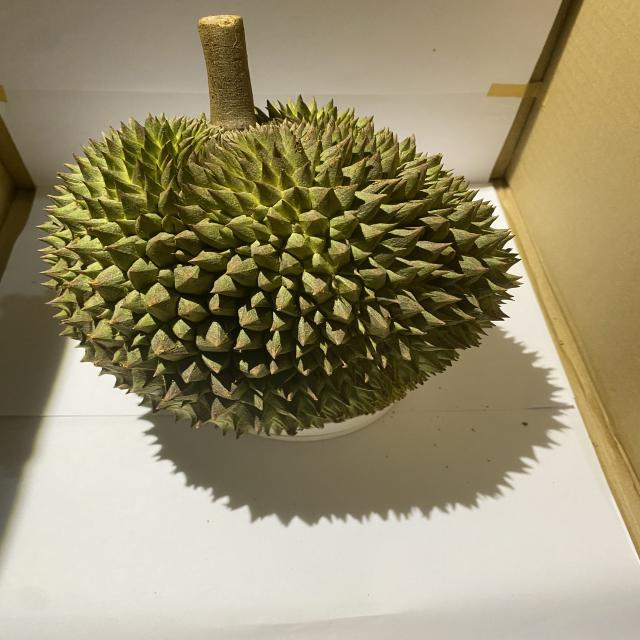immature: (34, 93, 527, 440)
